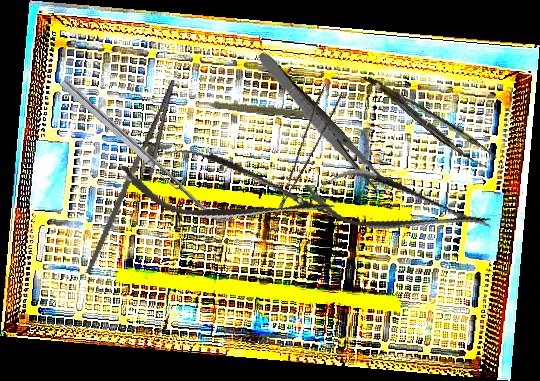Dressing Forceps: (252, 48, 391, 196)
Handpiece: (194, 95, 310, 120)
Micro Scissor: (115, 136, 341, 243), (299, 158, 496, 255)
Needle Holder: (85, 71, 191, 287)
Spatula Surgical: (59, 72, 236, 233)
Tissue Forceps: (366, 61, 497, 177), (253, 83, 350, 217)
